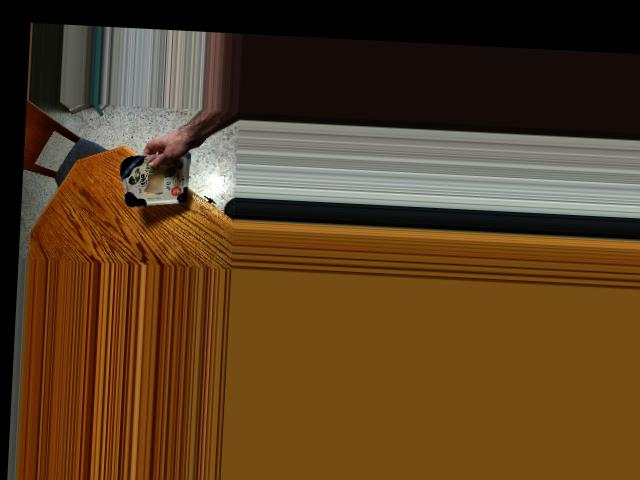cheese: (116, 149, 200, 203)
